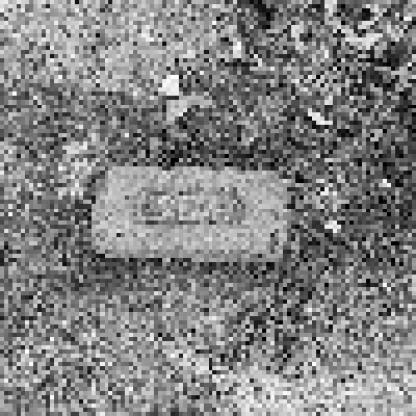brick: (88, 167, 296, 261)
